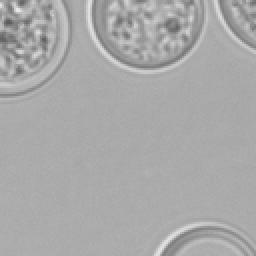picoshell: (86, 0, 206, 72), (154, 220, 254, 254), (212, 0, 256, 59)
